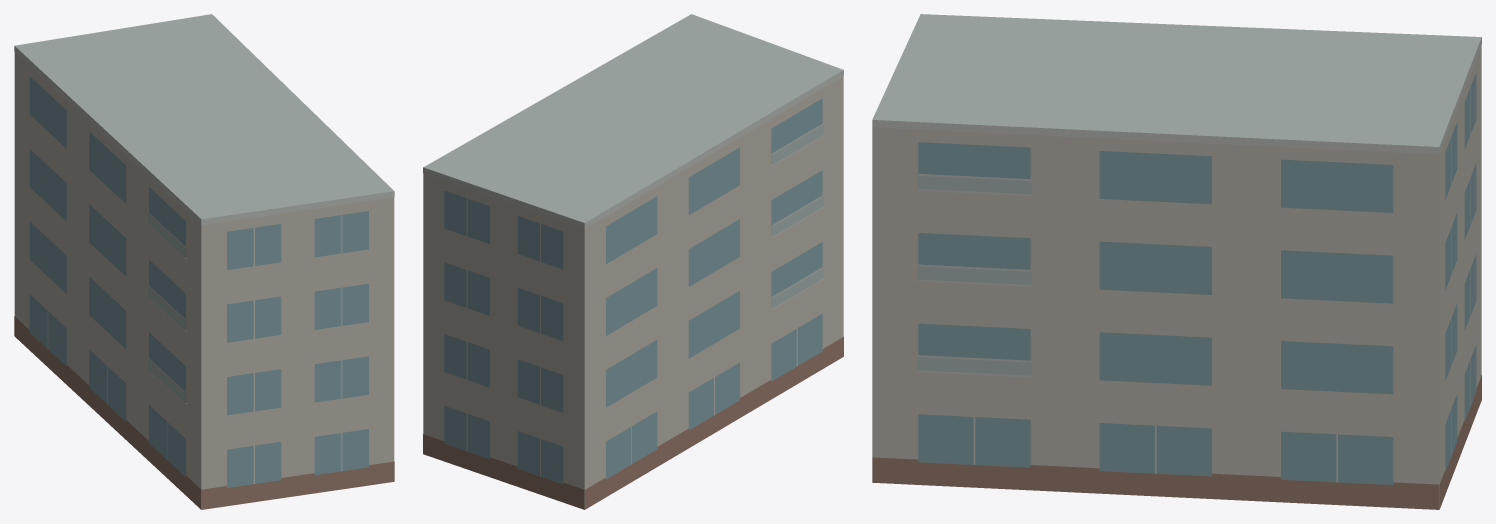
The model's file is survey-upis-32600509.glb.
3 views of the same model, side by side, from view 1: azimuth 30°, elevation 25°; view 2: azimuth 150°, elevation 25°; view 3: azimuth 270°, elevation 25° (orthographic). The views are drawn at different scales.
Visible parts, largest first — view 1: survey-upis-32600509.tmp; view 2: survey-upis-32600509.tmp; view 3: survey-upis-32600509.tmp.
Part boxes in pixels (x1=…): survey-upis-32600509.tmp: x1=14, y1=14, x2=394, y2=509; survey-upis-32600509.tmp: x1=423, y1=14, x2=843, y2=509; survey-upis-32600509.tmp: x1=872, y1=14, x2=1481, y2=509.
Size of the model in its own units: 9.33 by 11.85 by 18.06.
